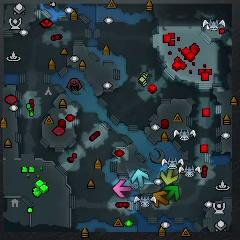x1: (113, 178, 132, 197)
x2: (160, 169, 178, 185)
x3: (131, 170, 148, 187)
x4: (163, 185, 180, 201)
x5: (153, 190, 169, 208)
